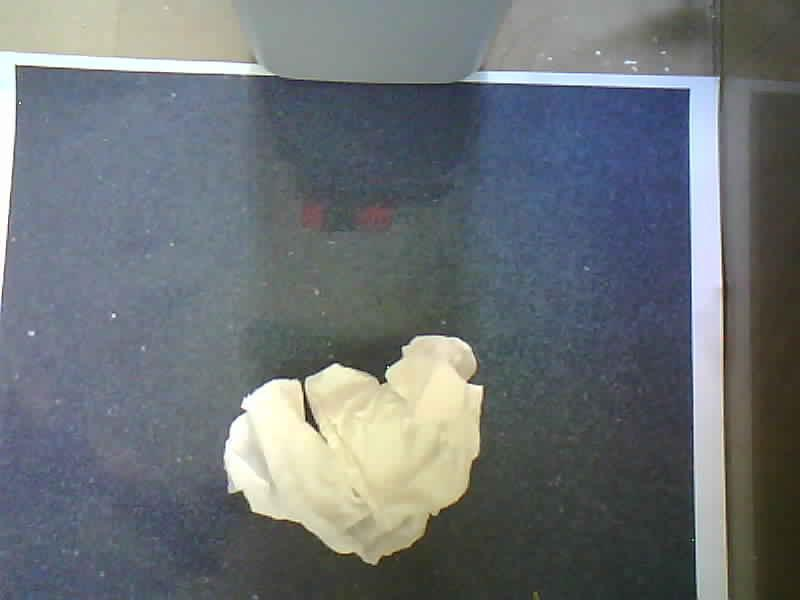paper: (225, 336, 483, 564)
